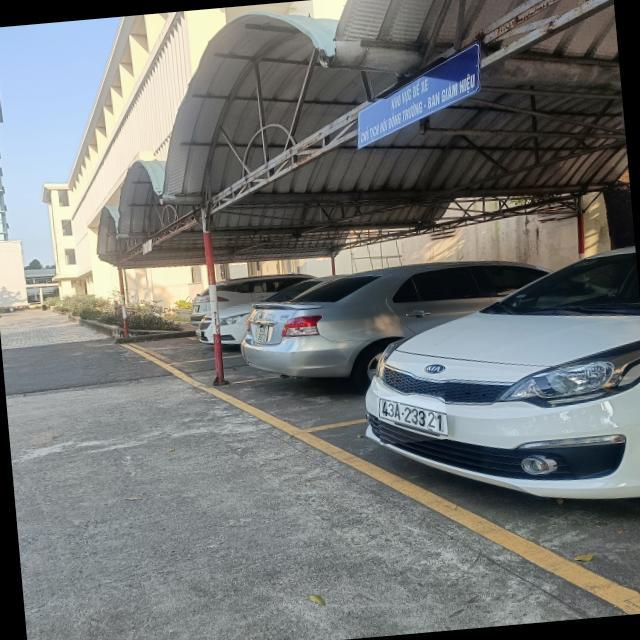car: (360, 250, 640, 508), (244, 256, 574, 391)
plate: (365, 394, 459, 441), (246, 320, 277, 346)
